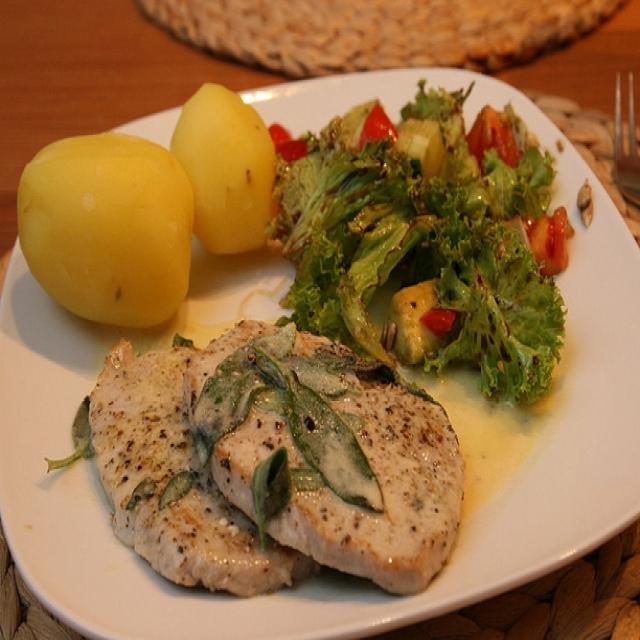猪肉菜式: (27, 42, 599, 610)
